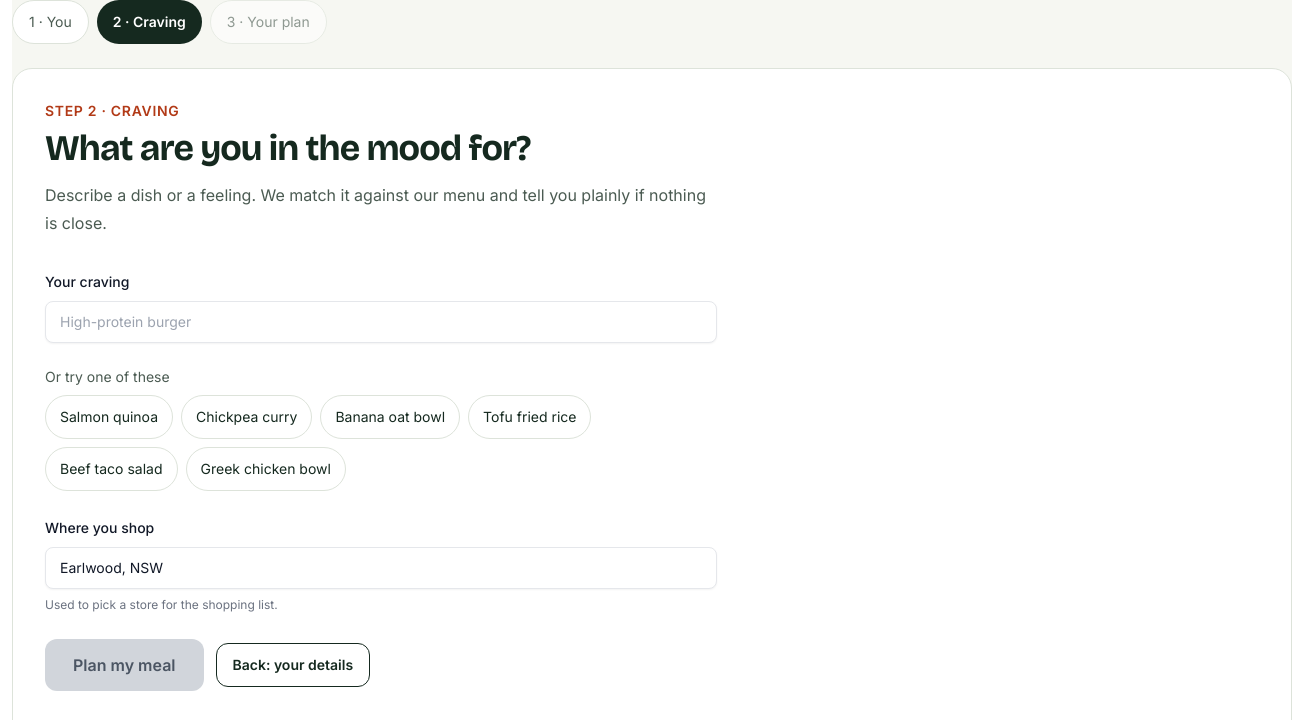
Shopping list › starts a new plan with nothing ticked
The width and height of the screenshot is (1304, 720).
Type "chicken fried rice" into the field labelled "Your craving".
click(381, 322); type("chicken fried rice")  # box [45,301,717,343]
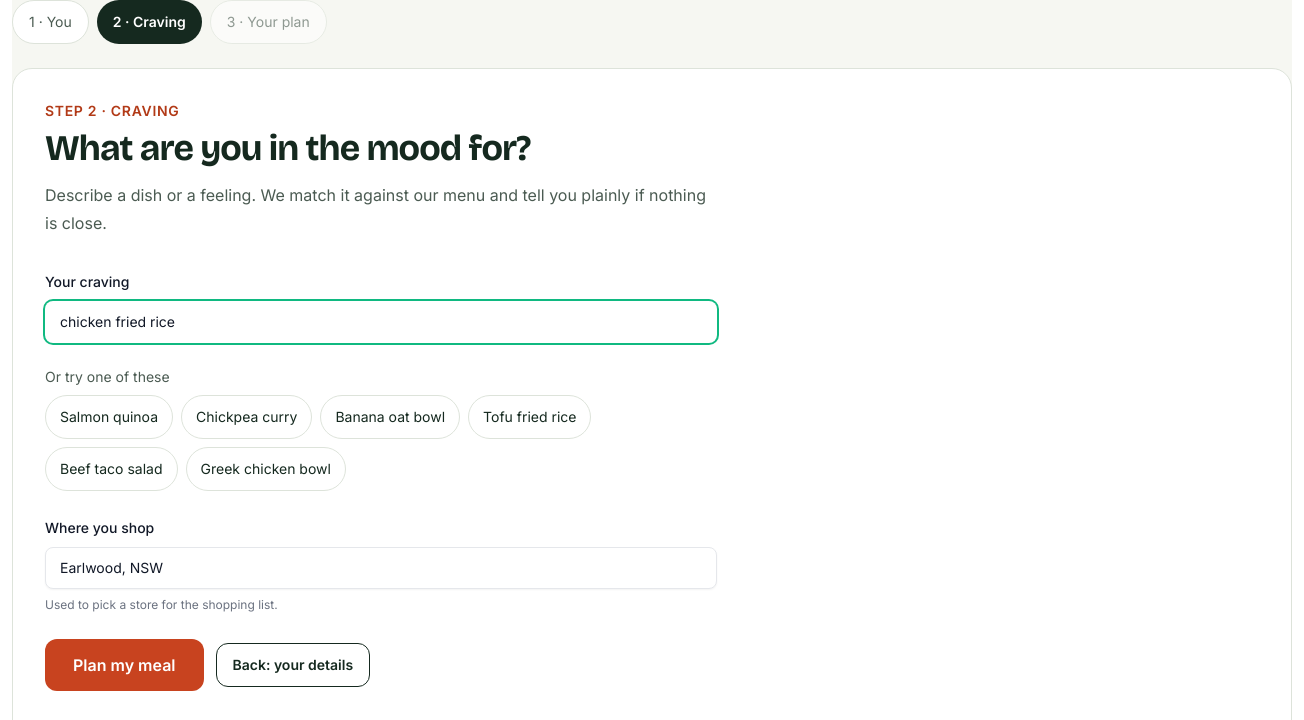
Click the button "Plan my meal".
click(124, 665)  # box [45,639,204,691]
(page scrolled)
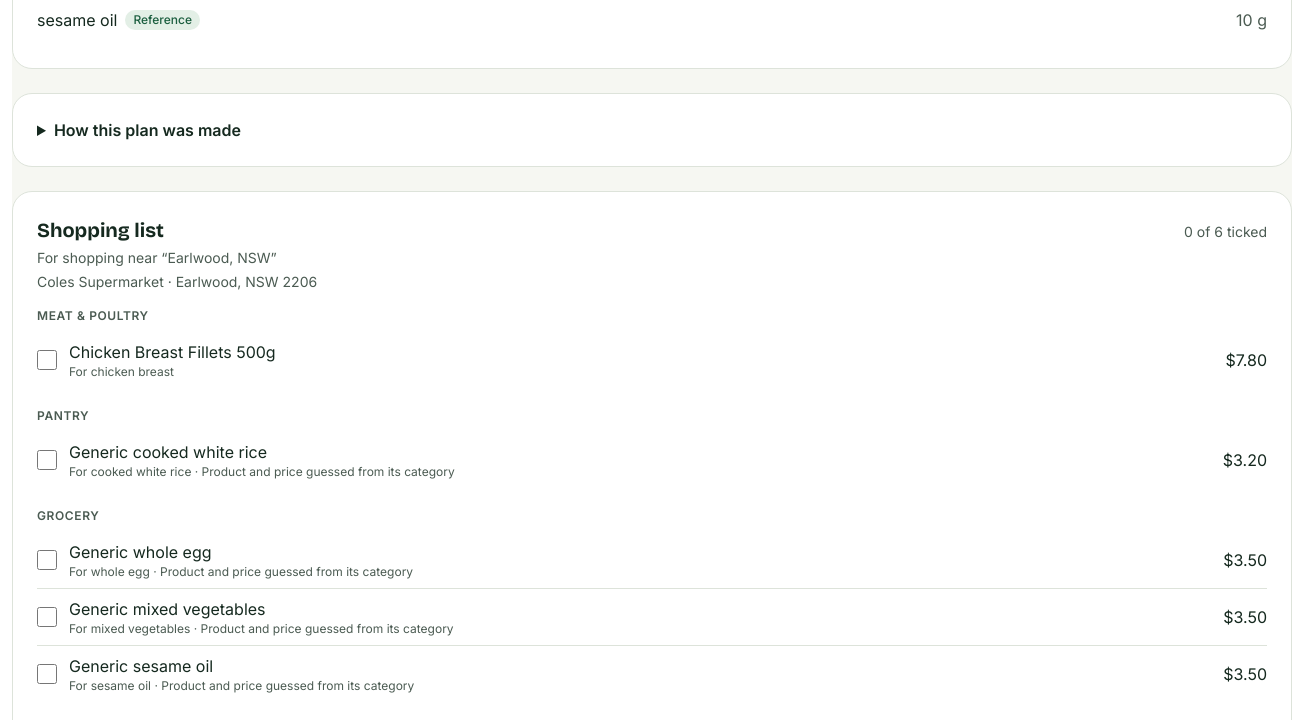
Click the checkbox labelled "Chicken Breast Fillets 500g For chicken breast $7.80".
click(47, 360)  # box [37,350,57,370]
(page scrolled)
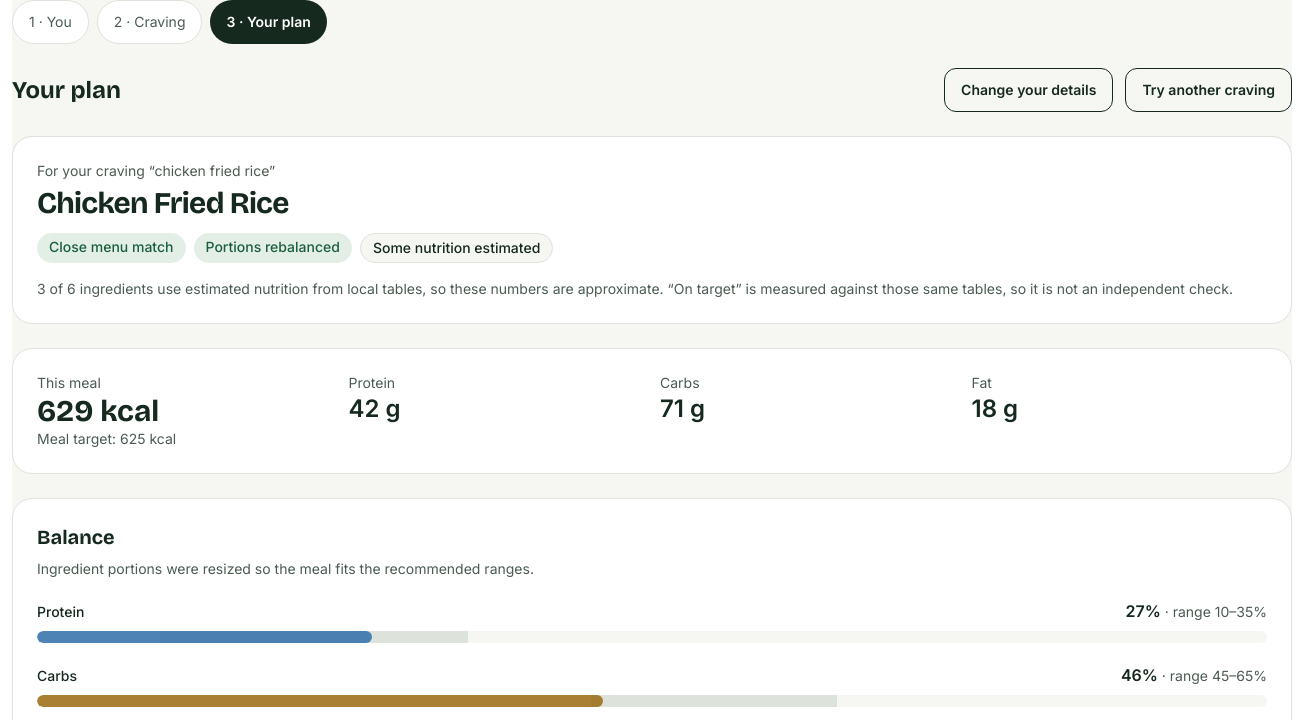
Click the button "2 · Craving".
click(150, 22)  # box [97,0,202,44]
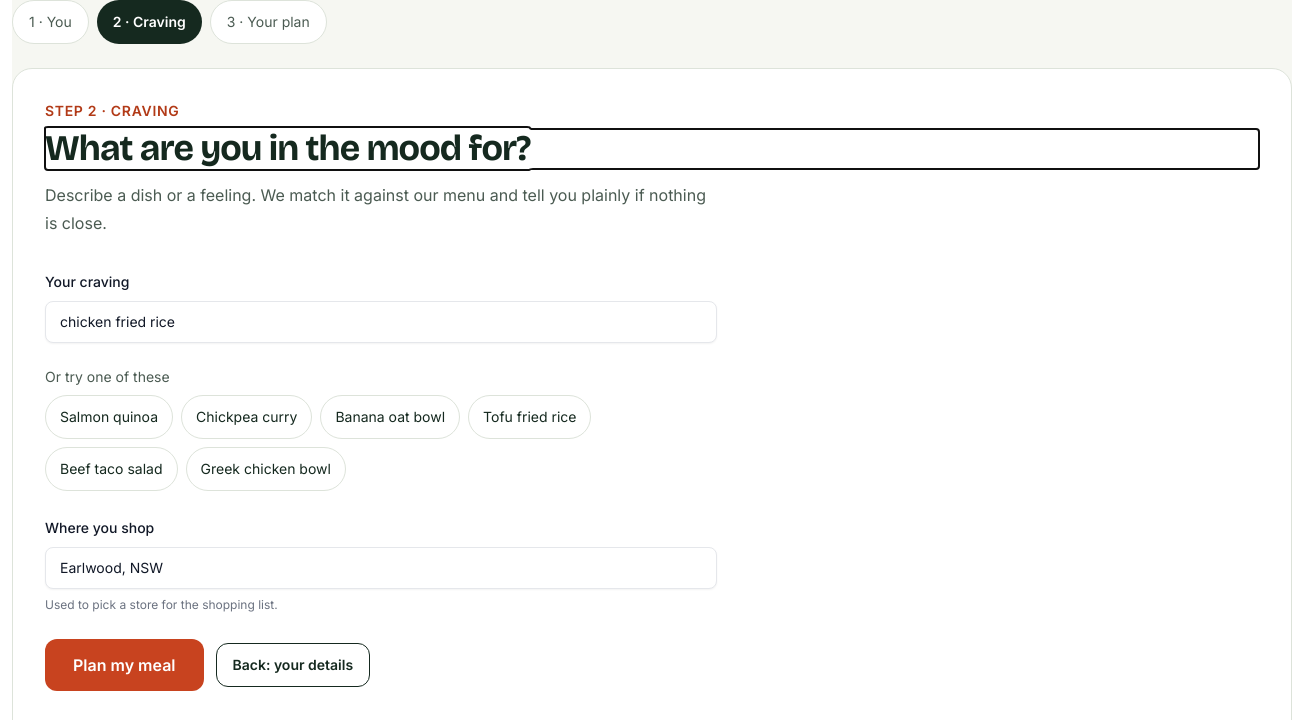
Replace the text in the field labelled "Your craving" with "fried rice" at coordinates (381, 322), box [45,301,717,343]
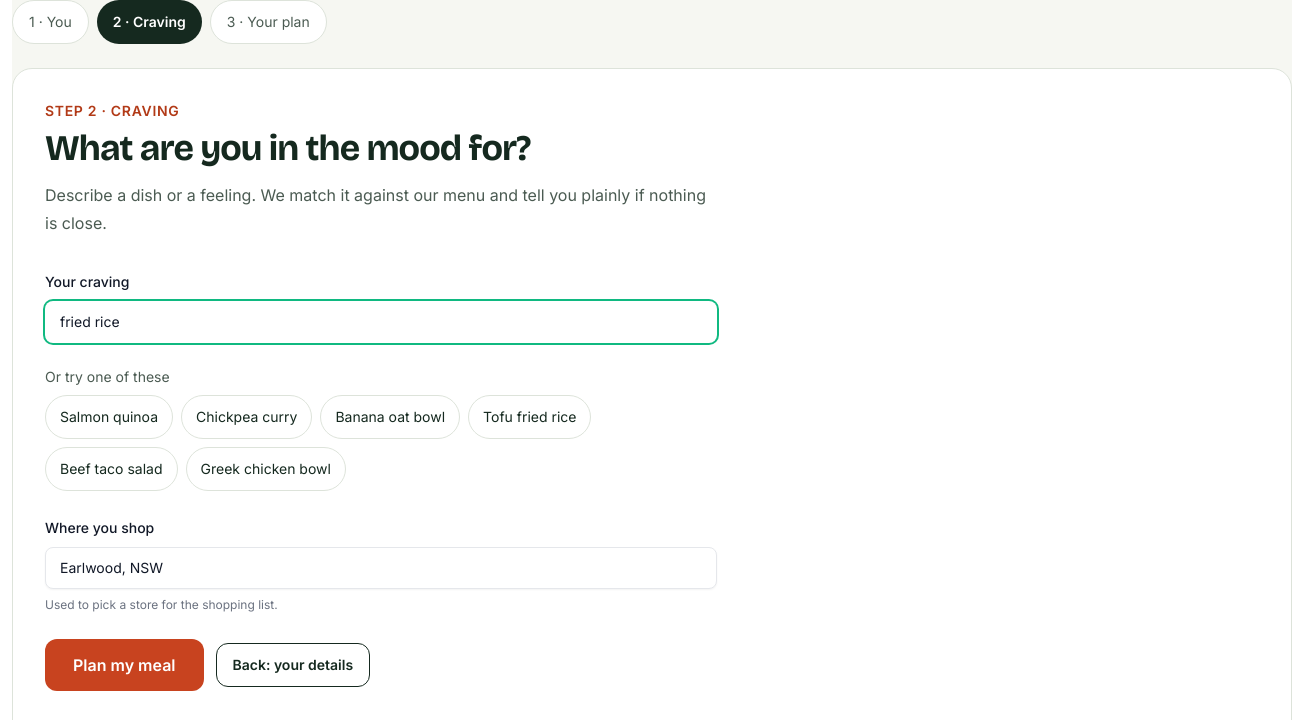
Click the button "Plan my meal".
click(124, 665)  # box [45,639,204,691]
(page scrolled)
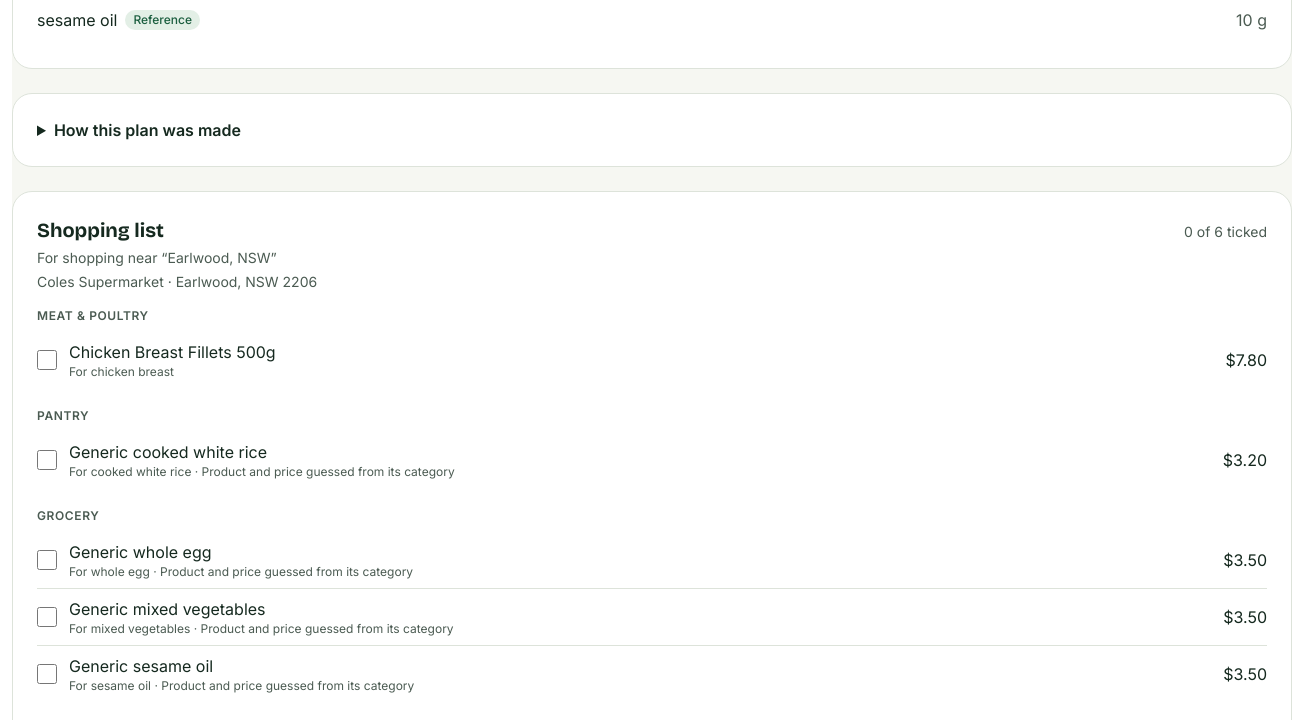
expect the text "0 of 6 ticked" is shown: met, box [1184,222,1267,242]
expect the checkbox labelled "Chicken Breast Fillets 500g For chicken breast $7.80" is not checked: met, box [37,350,57,370]
